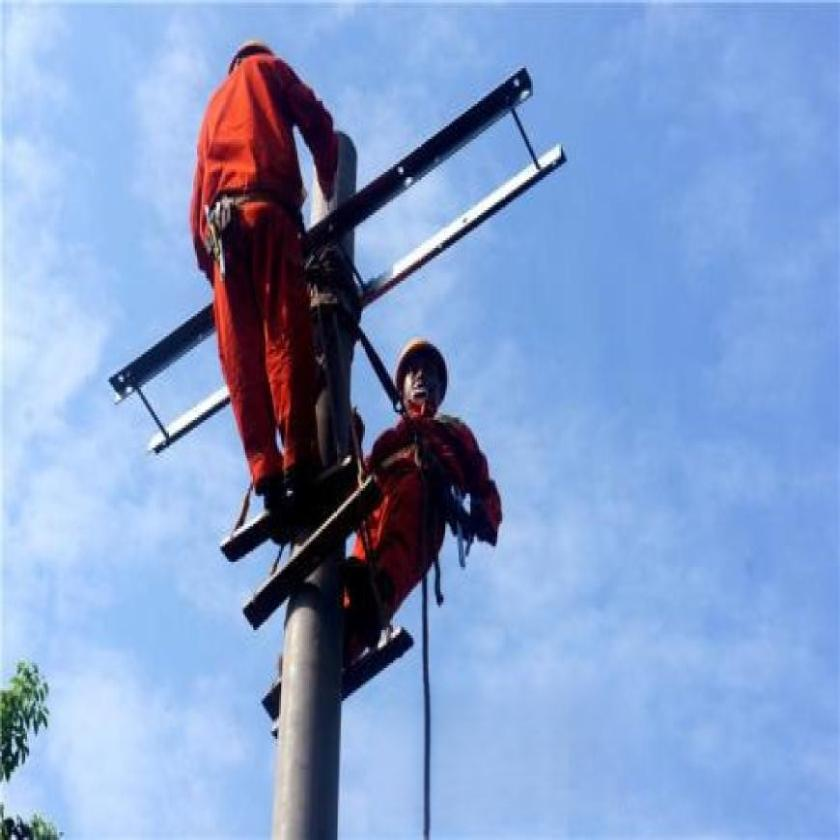Con_casco: (398, 330, 450, 428), (224, 35, 280, 86)
